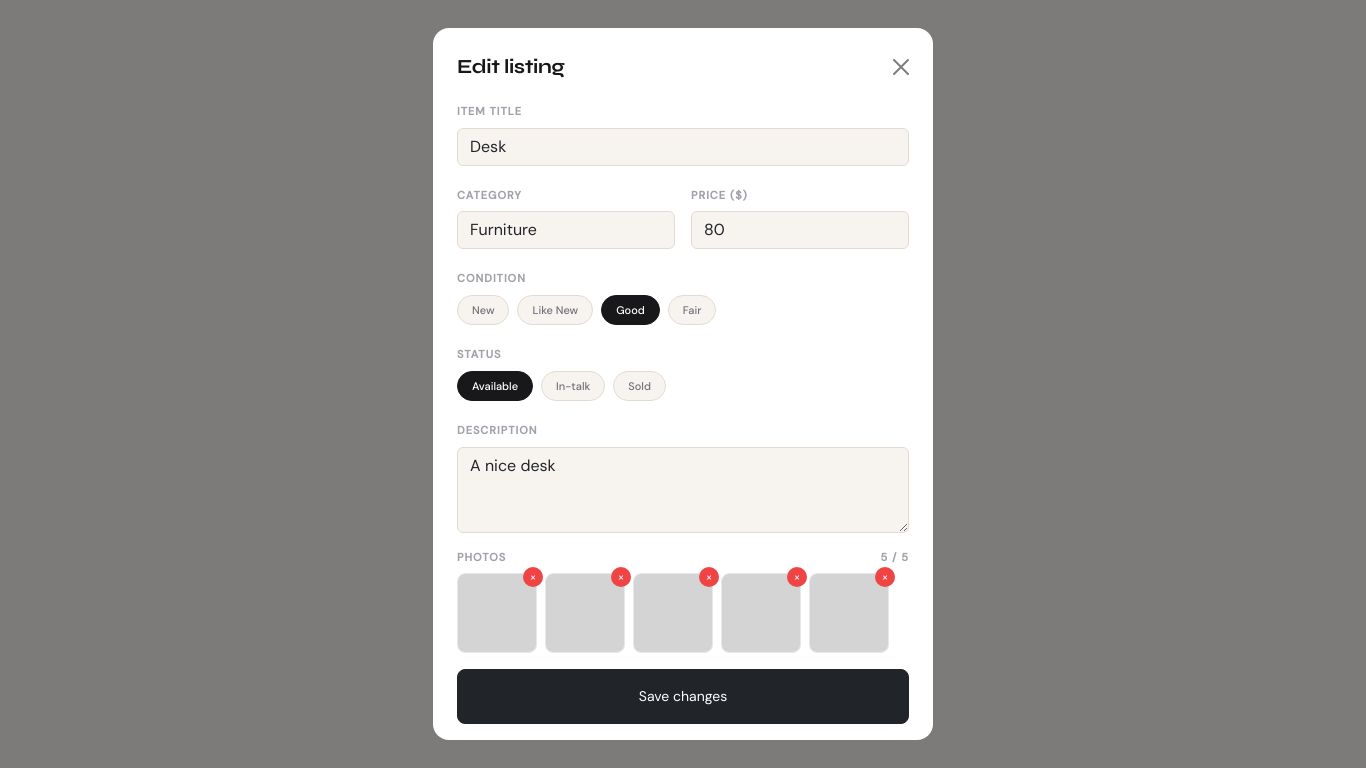
Test: EditListingModal — image management › shows the + button again after removing a photo when at limit
Check: the text "+" is not shown
Click the 1st button "×": (533, 577) [523,567,543,587]
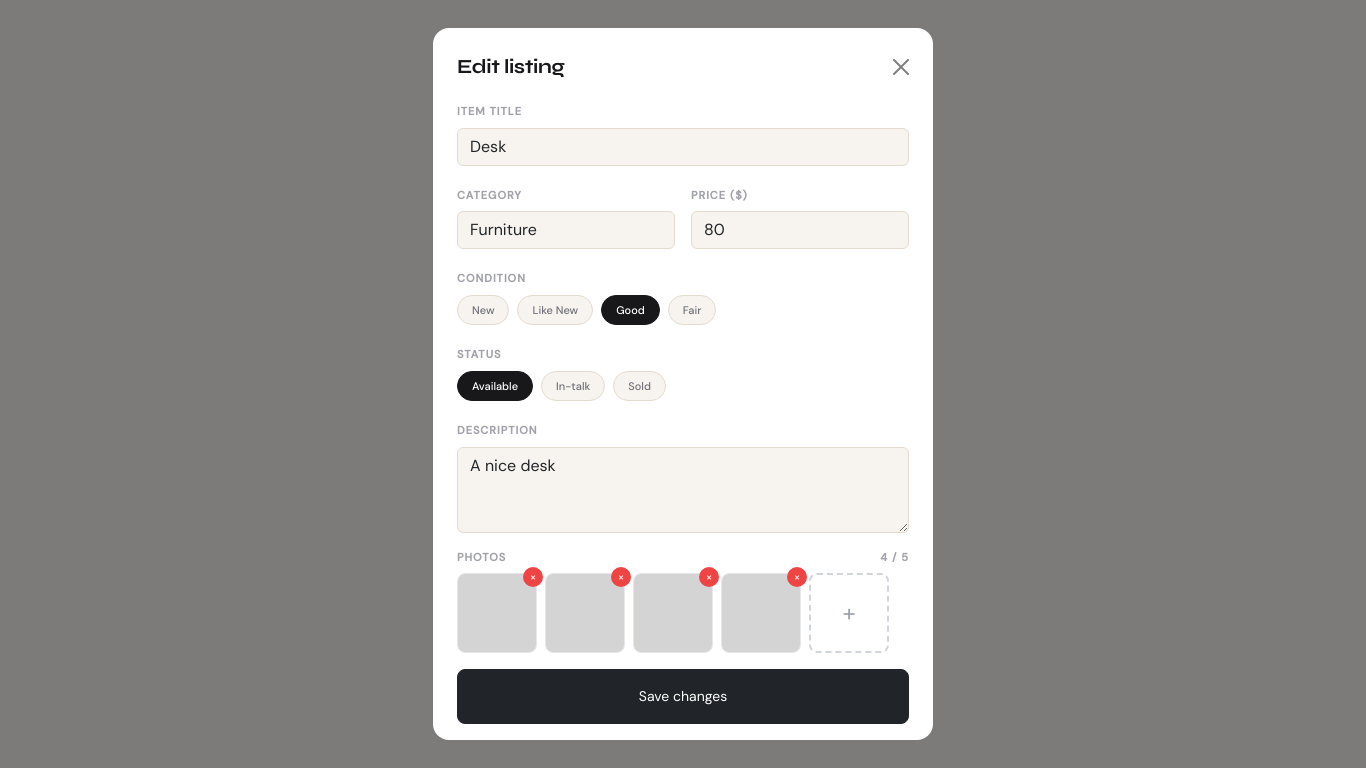
Check: the file field "+" is shown, box [809,573,889,653]
